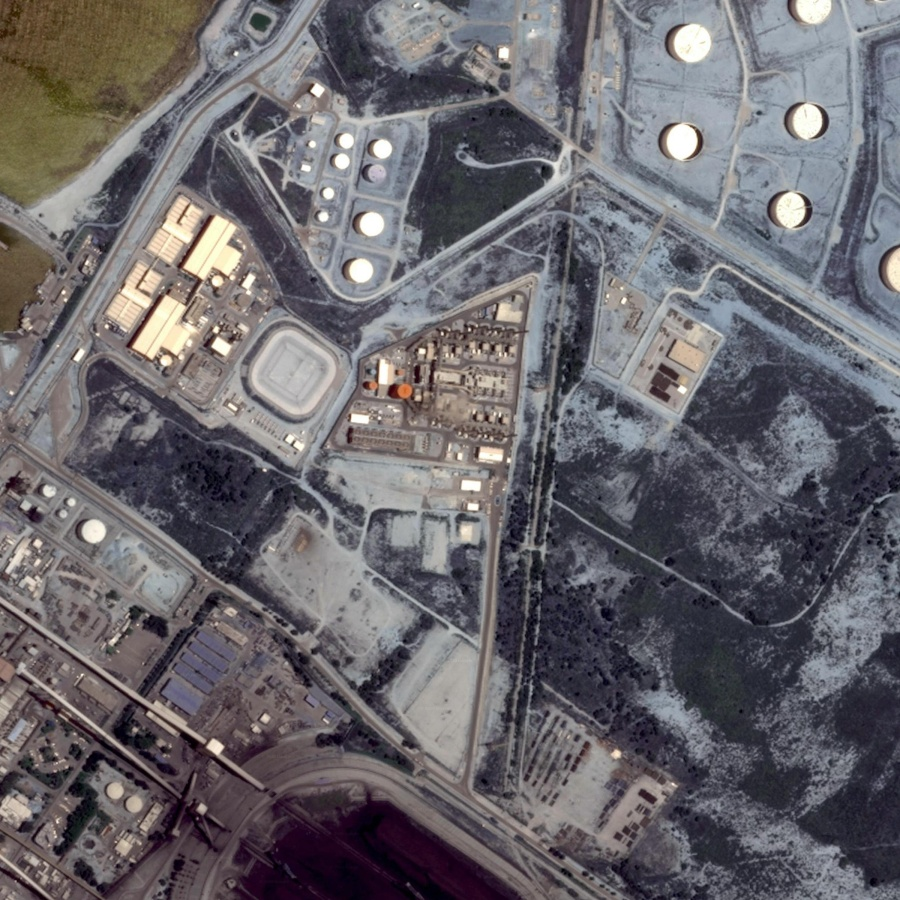PowerPlant: (232, 82, 465, 296)
